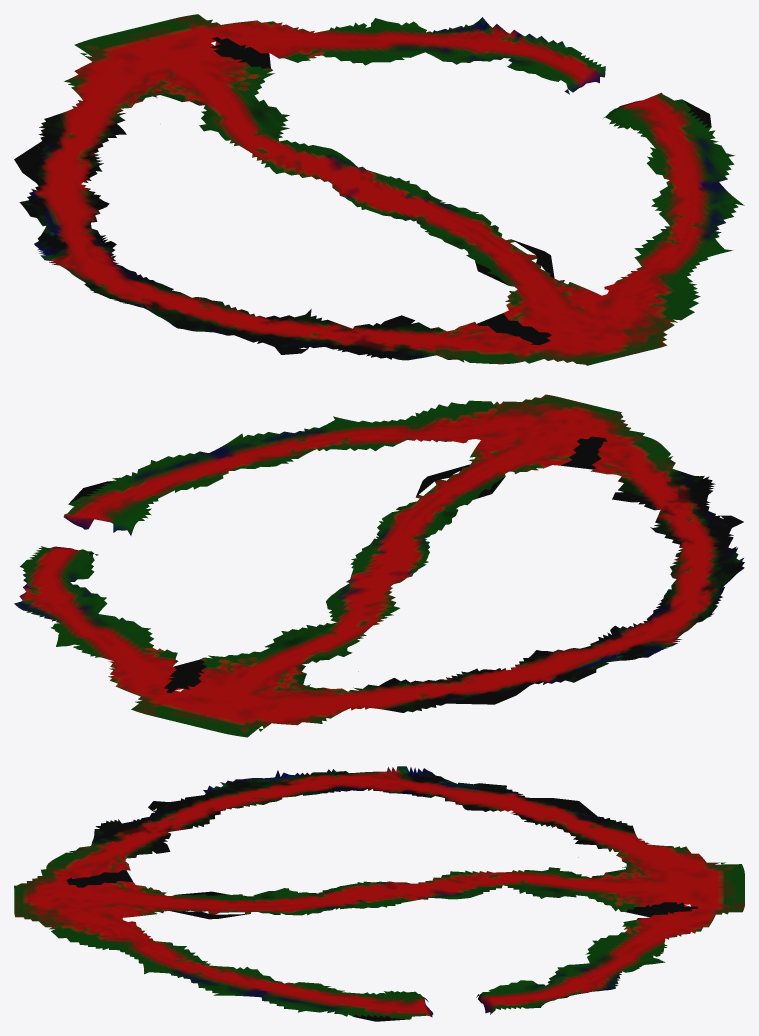
The model's file is nav_narrow.fbx.
The picture shows the model from 3 angles, top to bottom: view 1: azimuth 30°, elevation 25°; view 2: azimuth 150°, elevation 25°; view 3: azimuth 270°, elevation 25°; orthographic projection. The views are drawn at different scales.
Visible parts, largest first — view 1: Group5; view 2: Group5; view 3: Group5.
Boxes of the visible parts, x1=… form: Group5: x1=14, y1=14, x2=744, y2=365; Group5: x1=14, y1=394, x2=744, y2=737; Group5: x1=14, y1=766, x2=744, y2=1021.
Size of the model in its own units: 307 by 8.87 by 375.
